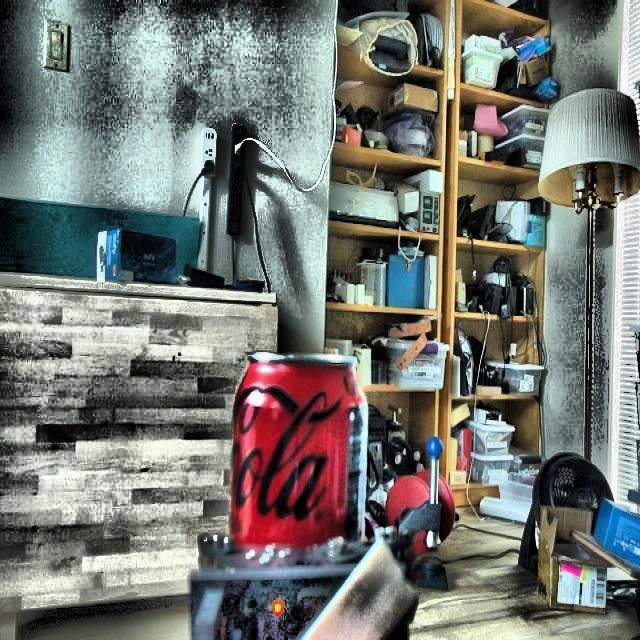CokeZero-can: (229, 349, 370, 562)
